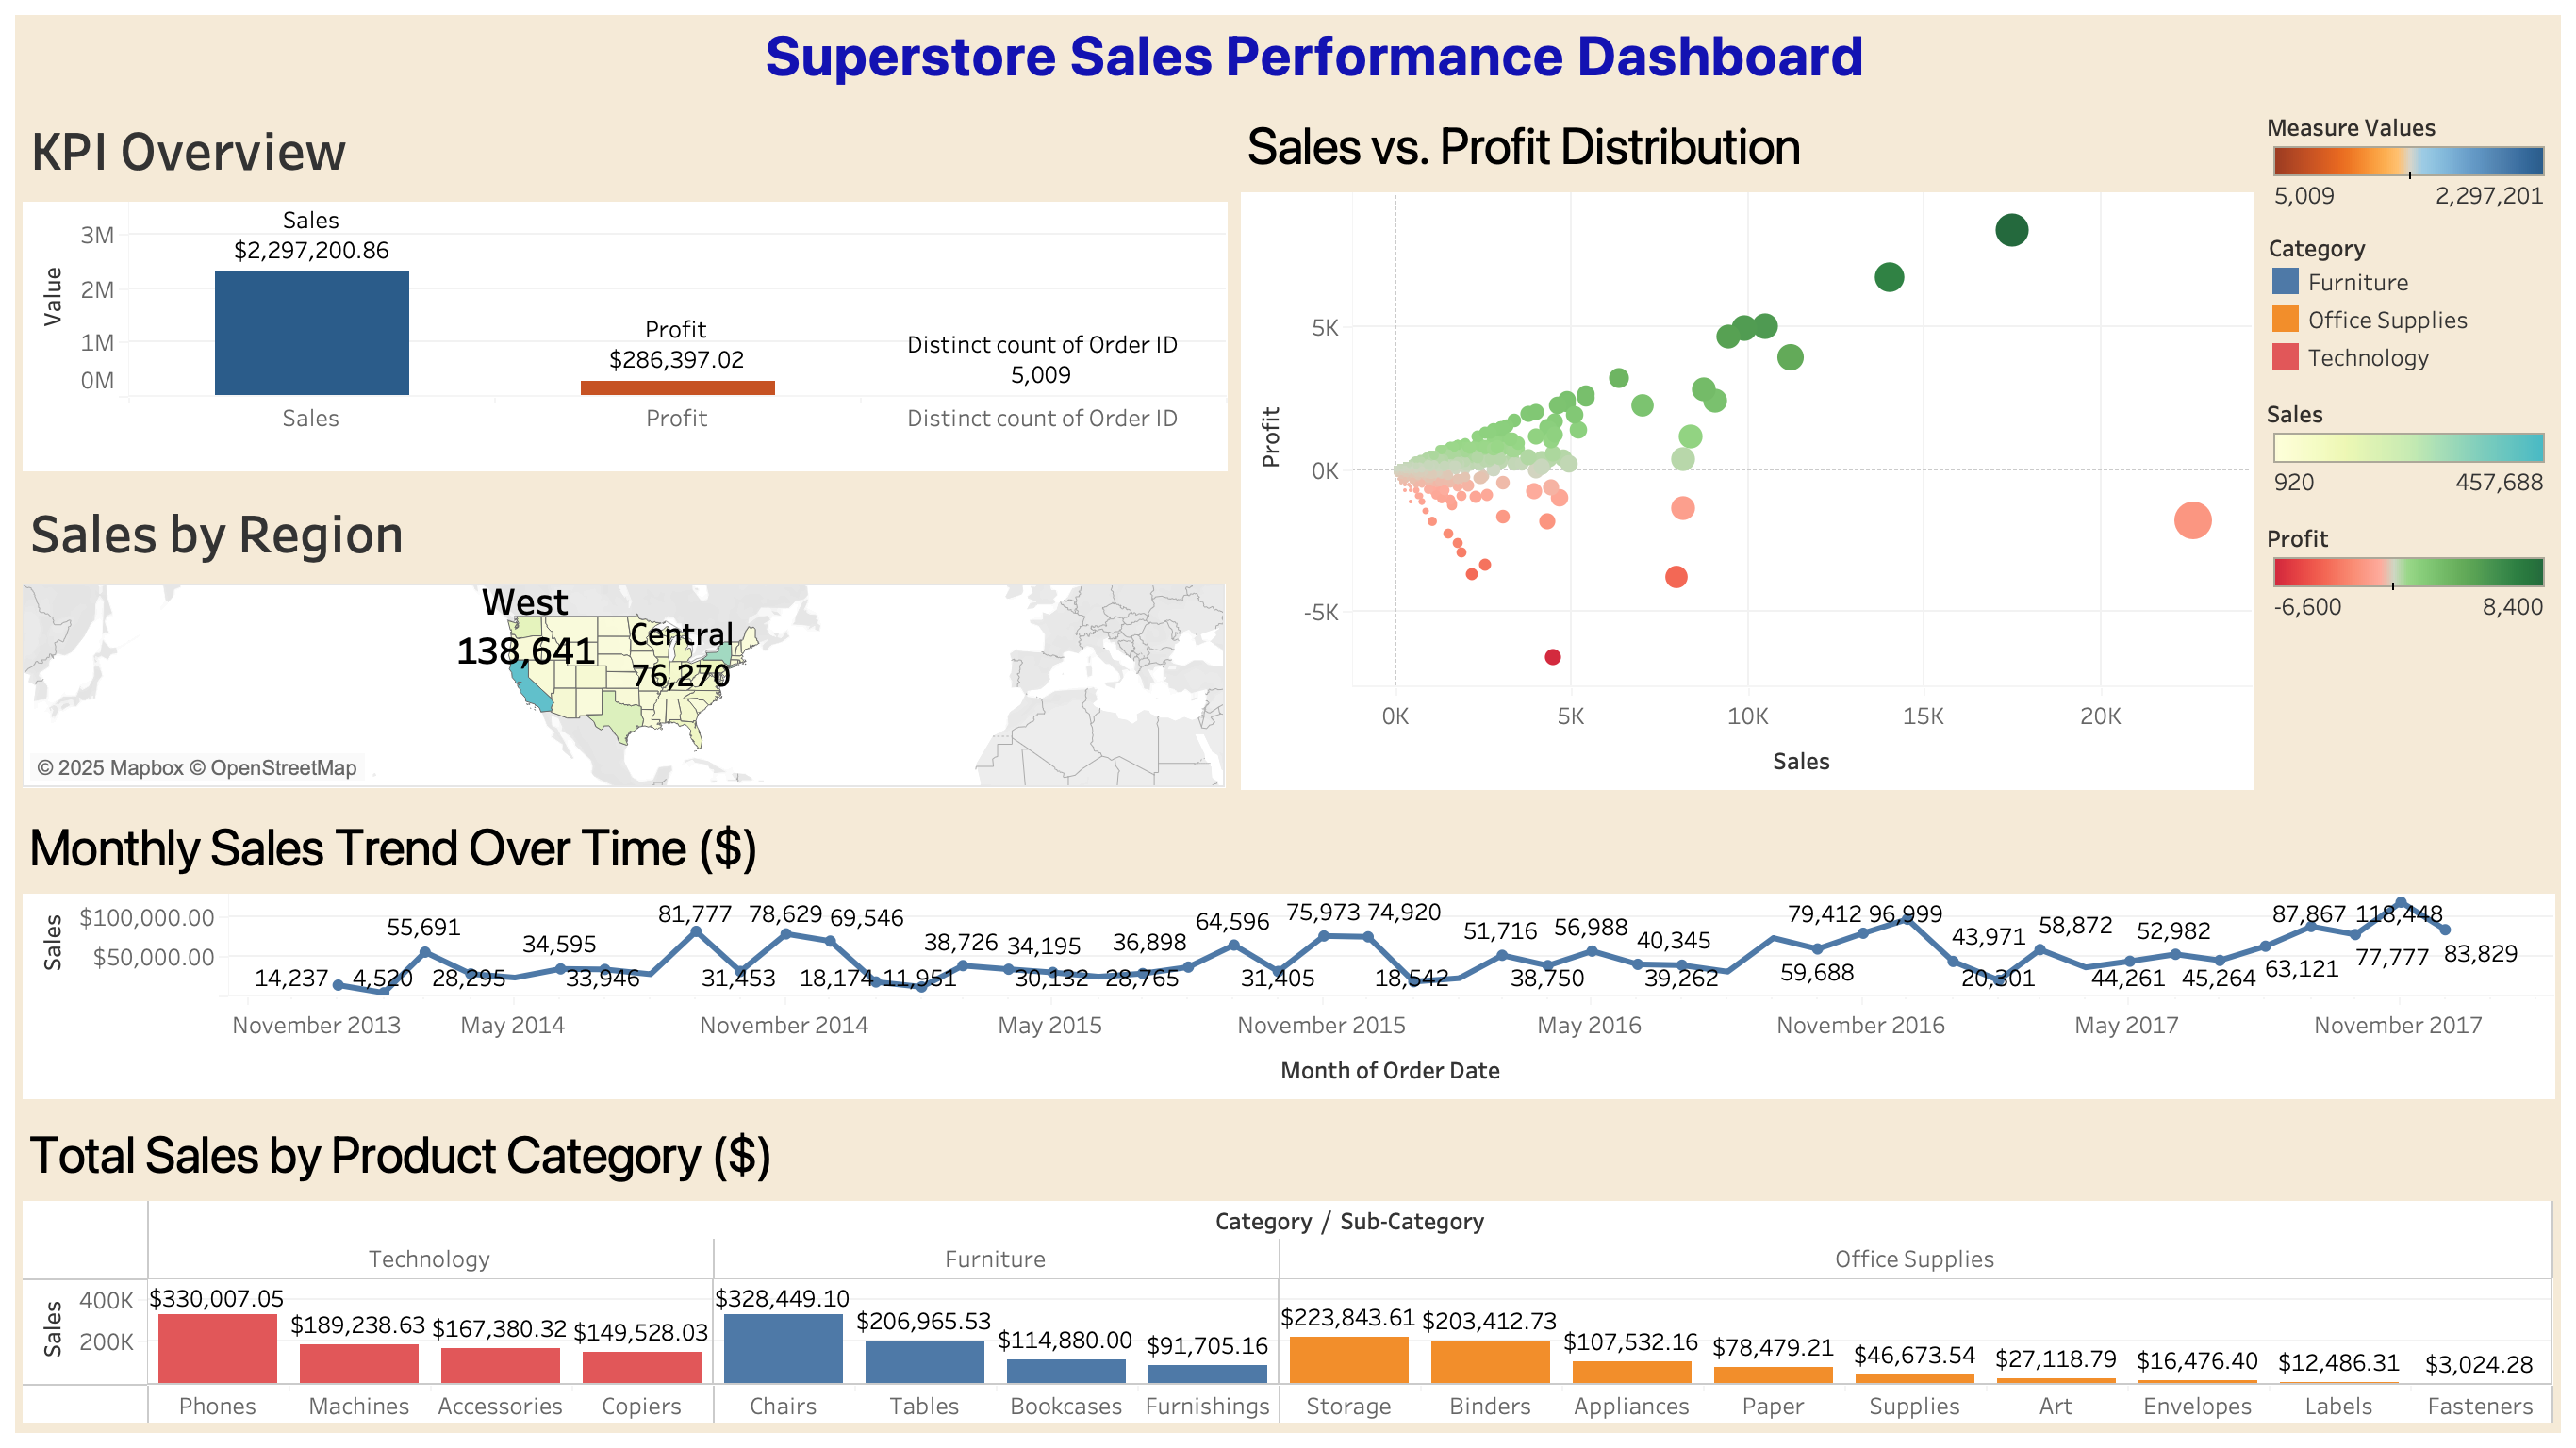

The page's visual inventory and layout, read from the dashboard file:
{"tool":"tableau","page":{"name":"Superstore Sales Dashboard","canvas":[1366,768],"ordinal":0},"visuals":[{"type":"title","box":[8,8,1350,43]},{"type":"worksheet","title":"KPI Overview","mark":"Bar","box":[8,51,645.5,203.4]},{"type":"worksheet","title":"Sales vs. Profit","mark":"Circle","rows":["Profit"],"cols":["Sales"],"box":[653.5,51,544.5,371.7]},{"type":"legend","title":"KPI Overview","param":"[federated.09tqldg0moe5251cgg9ug0akpv5w].[Multiple Values]","box":[1198,51,160,65]},{"type":"legend","title":"Sales by Category","param":"[federated.09tqldg0moe5251cgg9ug0akpv5w].[none:Category:nk]","box":[1198,116,160,86]},{"type":"legend","title":"Sales by Region","param":"[federated.09tqldg0moe5251cgg9ug0akpv5w].[sum:Sales:qk]","box":[1198,202,160,65]},{"type":"worksheet","title":"Sales by Region","mark":"Multipolygon","box":[8,254.4,645.5,168.2]},{"type":"legend","title":"Sales vs. Profit","param":"[federated.09tqldg0moe5251cgg9ug0akpv5w].[sum:Profit:qk]","box":[1198,267,160,65]},{"type":"worksheet","title":"Sales Trend Over Time","mark":"Automatic","rows":["Sales"],"cols":["Order Date"],"box":[8,422.7,1350,163.7]},{"type":"worksheet","title":"Sales by Category","mark":"Automatic","rows":["Sales"],"cols":["Category","Sub-Category"],"box":[8,586.3,1350,173.7]}]}

Visuals, with their boxes in screenshot pixels (x1, y1, x2, y2), scaled from the page's 1366x768 canvas onto the 2576x1448 screenshot:
title: {"x1": 15, "y1": 15, "x2": 2561, "y2": 96}
"KPI Overview" worksheet (Bar marks): {"x1": 15, "y1": 96, "x2": 1232, "y2": 480}
"Sales vs. Profit" worksheet (Circle marks): {"x1": 1232, "y1": 96, "x2": 2259, "y2": 797}
"KPI Overview" legend: {"x1": 2259, "y1": 96, "x2": 2561, "y2": 219}
"Sales by Category" legend: {"x1": 2259, "y1": 219, "x2": 2561, "y2": 381}
"Sales by Region" legend: {"x1": 2259, "y1": 381, "x2": 2561, "y2": 503}
"Sales by Region" worksheet (Multipolygon marks): {"x1": 15, "y1": 480, "x2": 1232, "y2": 797}
"Sales vs. Profit" legend: {"x1": 2259, "y1": 503, "x2": 2561, "y2": 626}
"Sales Trend Over Time" worksheet: {"x1": 15, "y1": 797, "x2": 2561, "y2": 1106}
"Sales by Category" worksheet: {"x1": 15, "y1": 1106, "x2": 2561, "y2": 1433}
